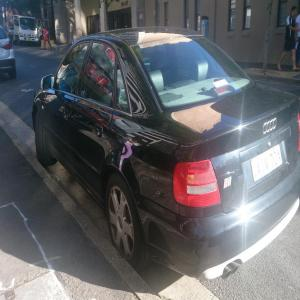Vehicle-registration-plate: (240, 138, 287, 194)
